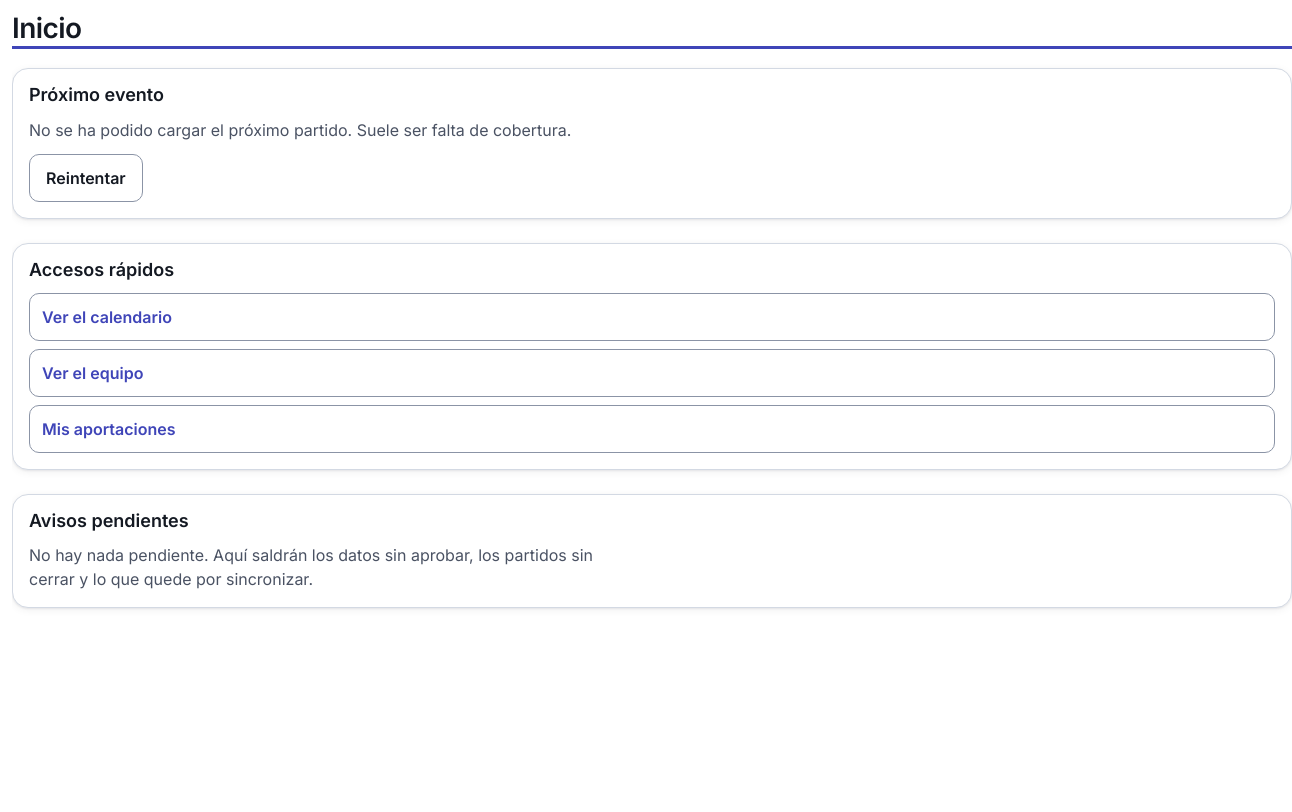
it: A02 · Inicio › si la carga falla, deja reintentar y enseña el partido
Expected: the text "No se ha podido cargar el próximo partido. Suele ser falta de cobertura." is shown, top-left (29, 118), bottom-right (635, 142)
Click the button "Reintentar" at (86, 178), box top-left (29, 154), bottom-right (143, 202)
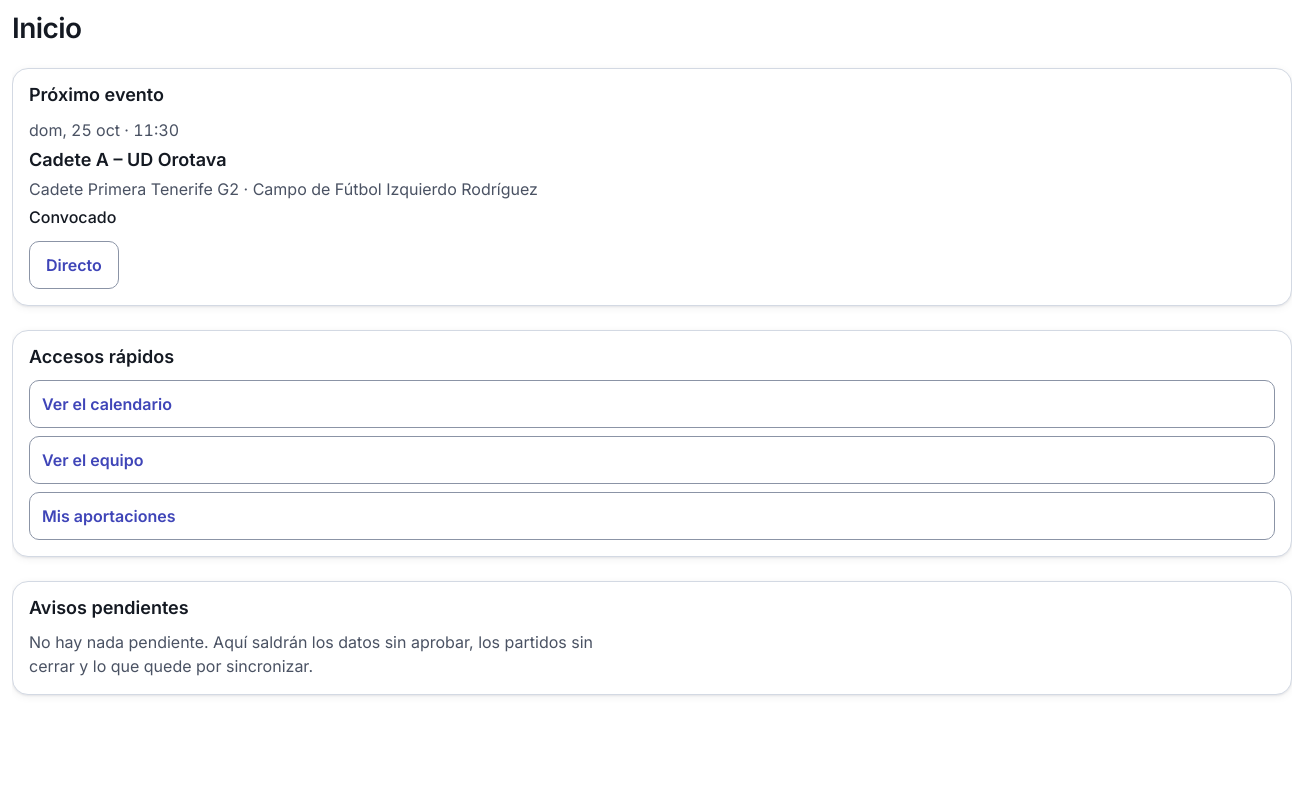
Result: the text "Cadete A – UD Orotava" is shown at top-left (29, 149), bottom-right (227, 170)
